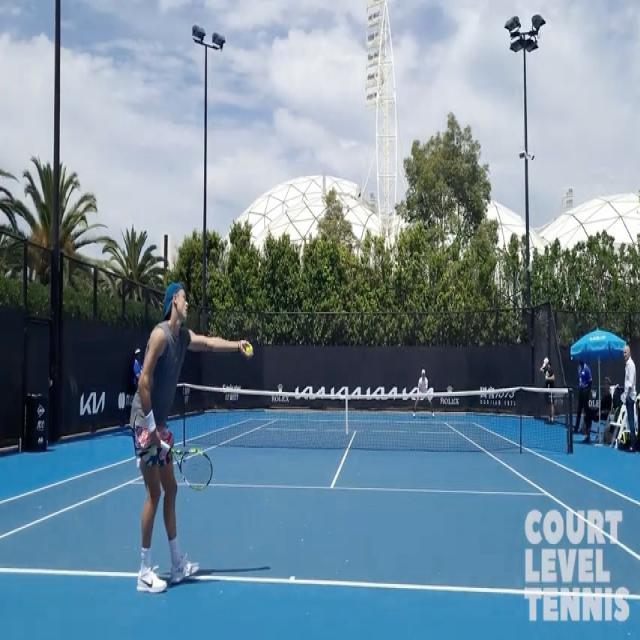serve_toss: (117, 267, 258, 605)
